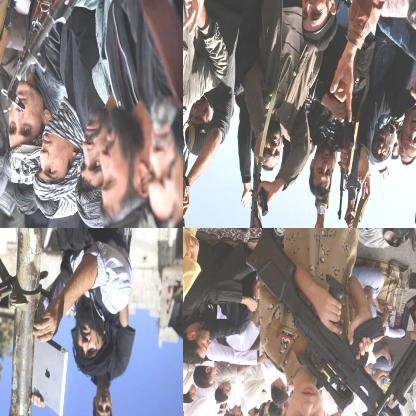rifle: (249, 229, 399, 415), (364, 228, 415, 415), (0, 0, 72, 112), (14, 0, 96, 85), (0, 0, 16, 149), (245, 156, 271, 227), (336, 115, 351, 220), (183, 136, 190, 227)
